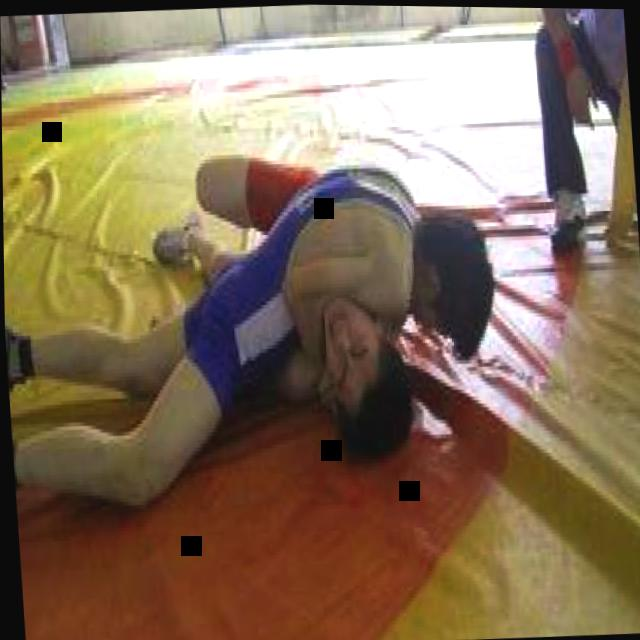Fall-Detected: (1, 117, 474, 521)
